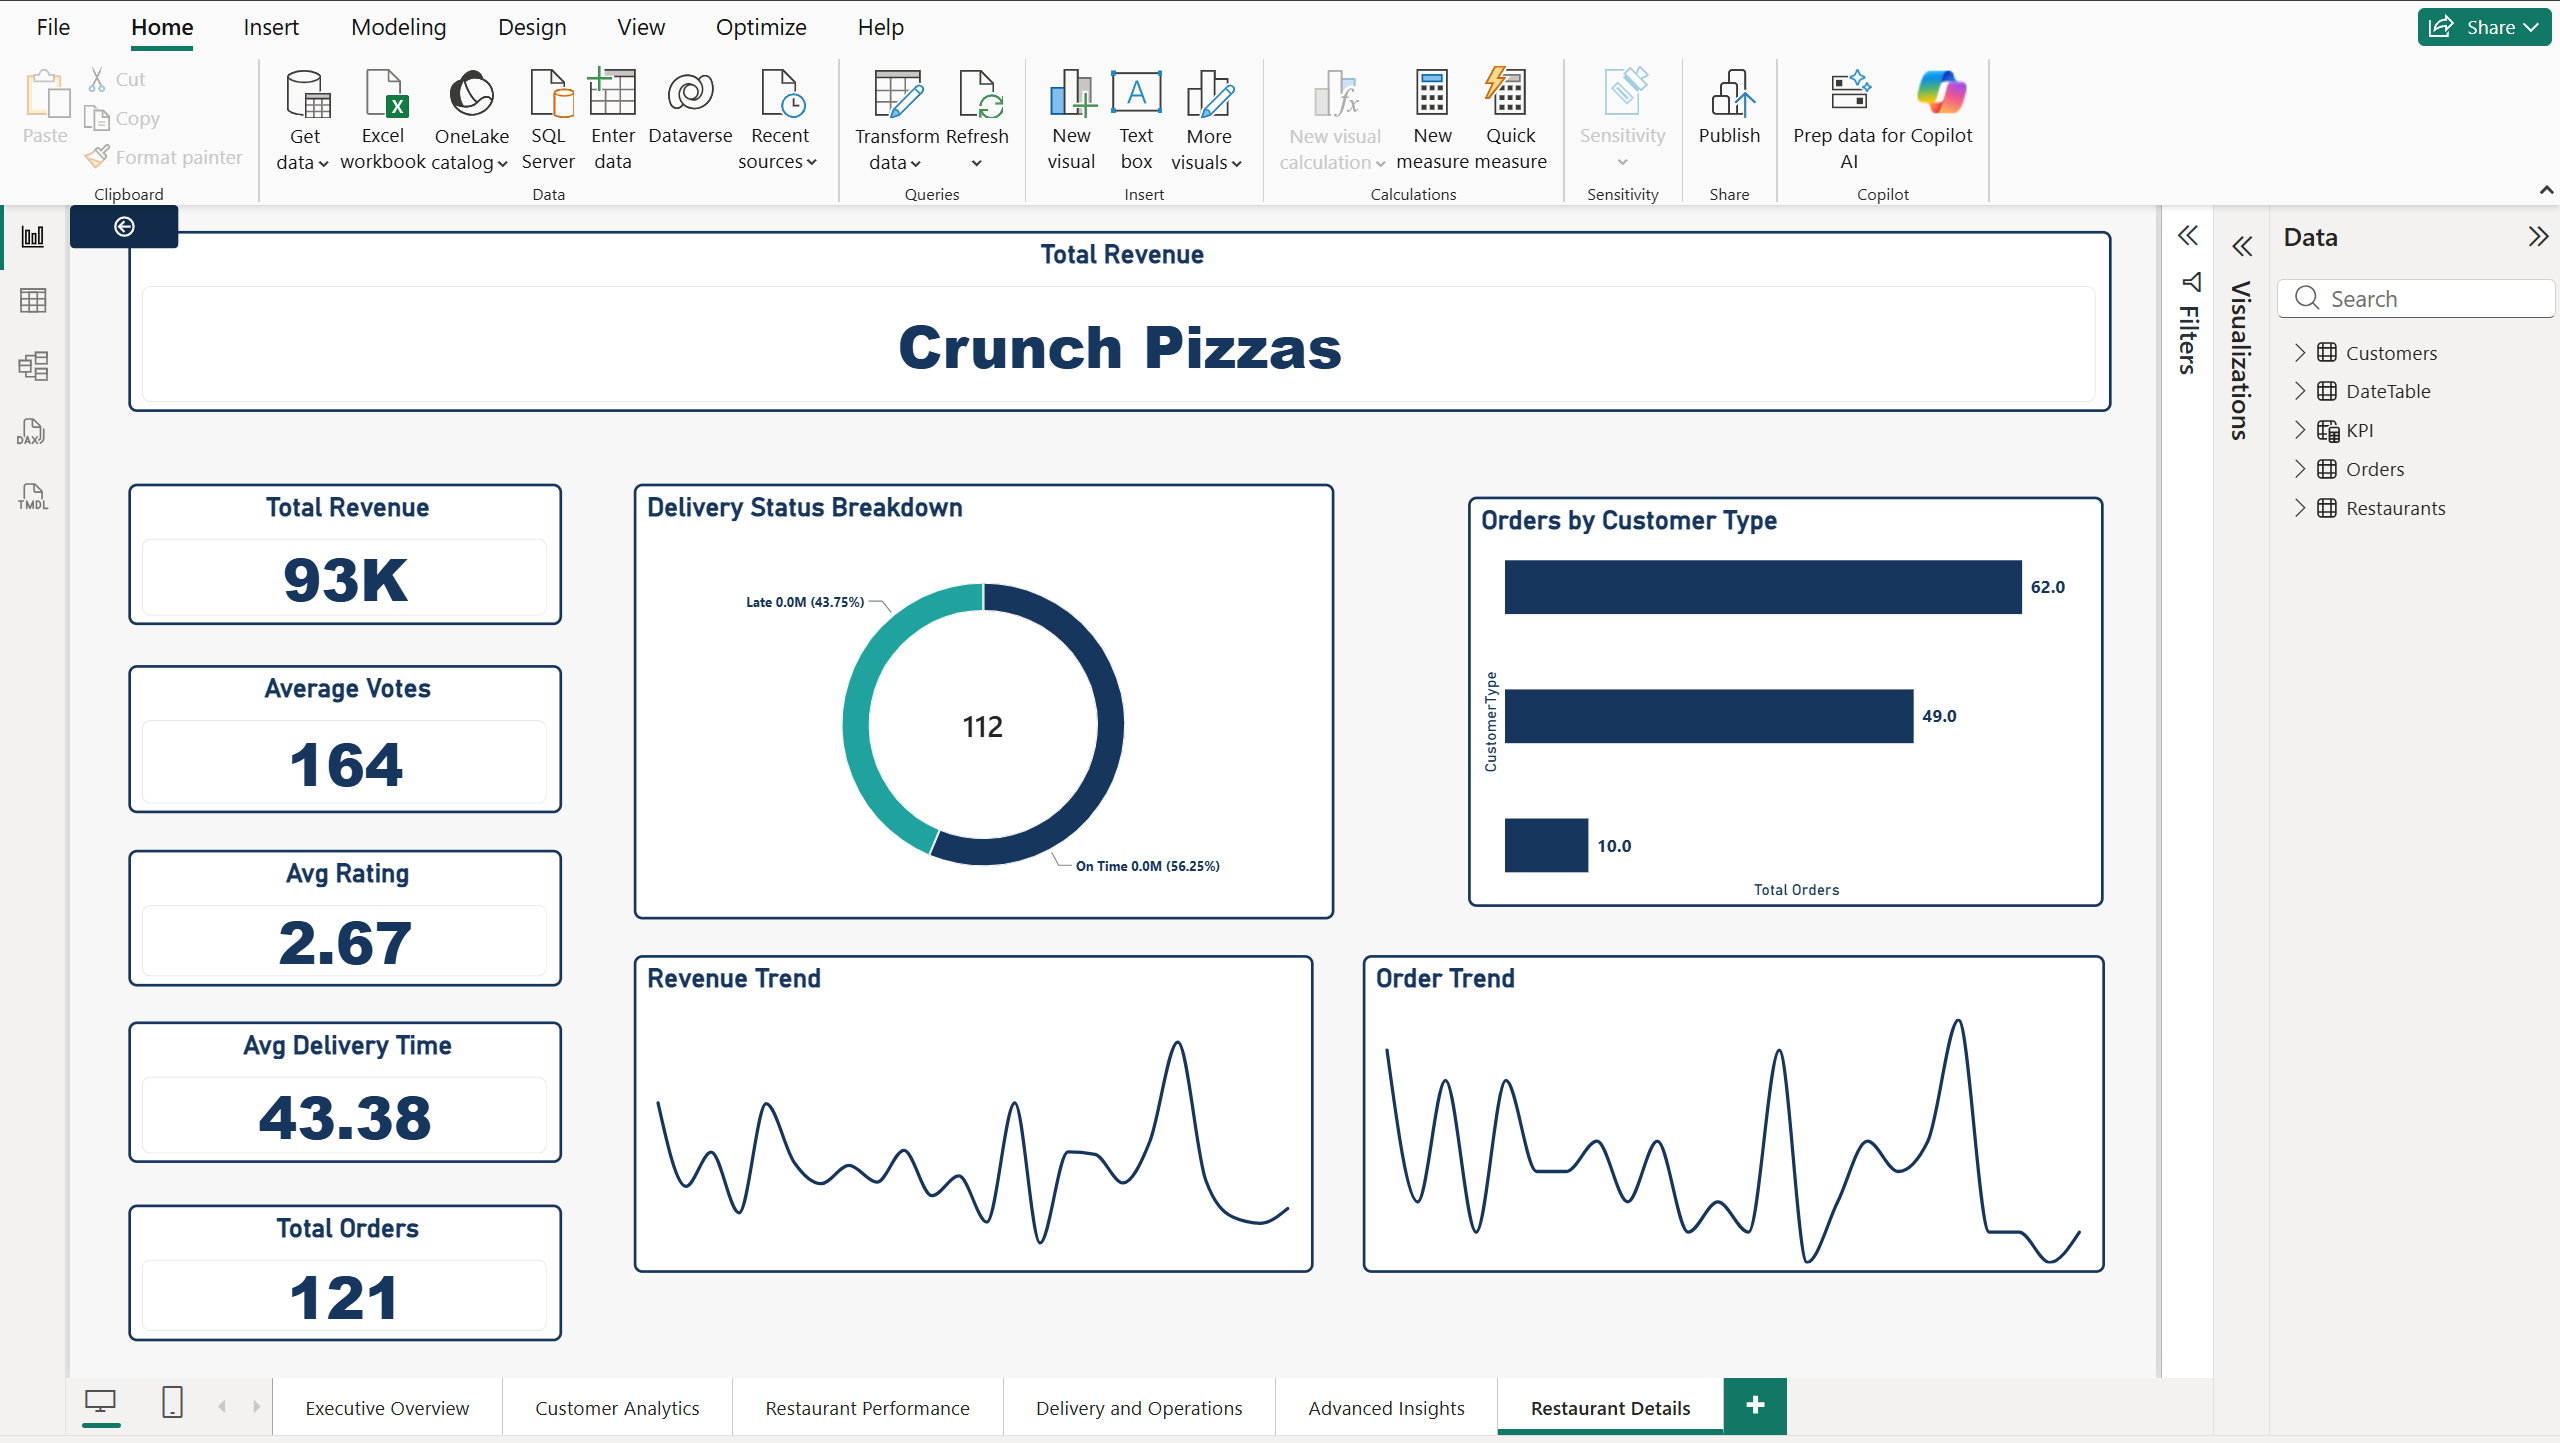

The page's visual inventory and layout, read from the dashboard file:
{"tool":"powerbi","page":{"name":"Restaurant Details","canvas":[1920,1080],"ordinal":5},"visuals":[{"type":"cardVisual","title":"Avg Delivery Time ","fields":{"Data":["Orders.Avg Delivery Time"]},"box":[53.4,751.8,399.4,130.3],"z":0},{"type":"cardVisual","title":"Total Revenue","fields":{"Data":["Orders.Total Revenue"]},"box":[53.4,256.3,399.4,130.3],"z":1000},{"type":"cardVisual","title":"Average Votes","fields":{"Data":["Orders.Avg Votes"]},"box":[53.4,422.9,399.4,136.7],"z":2000},{"type":"cardVisual","title":"Avg Rating","fields":{"Data":["Orders.Avg Rating"]},"box":[53.4,593.7,399.4,126],"z":3000},{"type":"cardVisual","title":"Total Orders","fields":{"Data":["Orders.Total Orders"]},"box":[53.3,919.6,399.4,126],"z":4000},{"type":"cardVisual","title":"Total Revenue","fields":{"Data":["Min(Restaurants.name)"]},"box":[53.4,23.5,1826,166.6],"z":5000},{"type":"lineChart","title":"Revenue Trend","fields":{"Category":["Customers.SignupDate.Variation.Date Hierarchy.Year","Customers.SignupDate.Variation.Date Hierarchy.Quarter","Customers.SignupDate.Variation.Date Hierarchy.Month"],"Y":["Orders.Total Revenue"]},"box":[519,689.8,625.8,292.6],"z":6000},{"type":"lineChart","title":"Order Trend","fields":{"Category":["Customers.SignupDate.Variation.Date Hierarchy.Year","Customers.SignupDate.Variation.Date Hierarchy.Quarter","Customers.SignupDate.Variation.Date Hierarchy.Month"],"Y":["Orders.Total Orders"]},"box":[1189.6,689.8,683.4,292.6],"z":7000},{"type":"barChart","title":"Orders by Customer Type","fields":{"Category":["Customers.CustomerType"],"Y":["Orders.Total Orders"]},"box":[1287.8,269.1,585.2,378],"z":8000},{"type":"actionButton","box":[0,0,100,40],"z":9000},{"type":"donutChart","title":"Delivery Status Breakdown","fields":{"Category":["Orders.Delivery Status"],"Y":["Orders.Total Orders"]},"box":[519,256.3,645,401.5],"z":10000}]}

Visuals, with their boxes on the page's 1920x1080 design canvas (x1, y1, x2, y2). These are canvas units, not pixel positions in the 2560x1443 screenshot, which may show the page scaled, cropped or inside an application window:
"Avg Delivery Time " cardVisual: {"x1": 53, "y1": 752, "x2": 453, "y2": 882}
"Total Revenue" cardVisual: {"x1": 53, "y1": 256, "x2": 453, "y2": 387}
"Average Votes" cardVisual: {"x1": 53, "y1": 423, "x2": 453, "y2": 560}
"Avg Rating" cardVisual: {"x1": 53, "y1": 594, "x2": 453, "y2": 720}
"Total Orders" cardVisual: {"x1": 53, "y1": 920, "x2": 453, "y2": 1046}
"Total Revenue" cardVisual: {"x1": 53, "y1": 24, "x2": 1879, "y2": 190}
"Revenue Trend" lineChart: {"x1": 519, "y1": 690, "x2": 1145, "y2": 982}
"Order Trend" lineChart: {"x1": 1190, "y1": 690, "x2": 1873, "y2": 982}
"Orders by Customer Type" barChart: {"x1": 1288, "y1": 269, "x2": 1873, "y2": 647}
actionButton: {"x1": 0, "y1": 0, "x2": 100, "y2": 40}
"Delivery Status Breakdown" donutChart: {"x1": 519, "y1": 256, "x2": 1164, "y2": 658}
